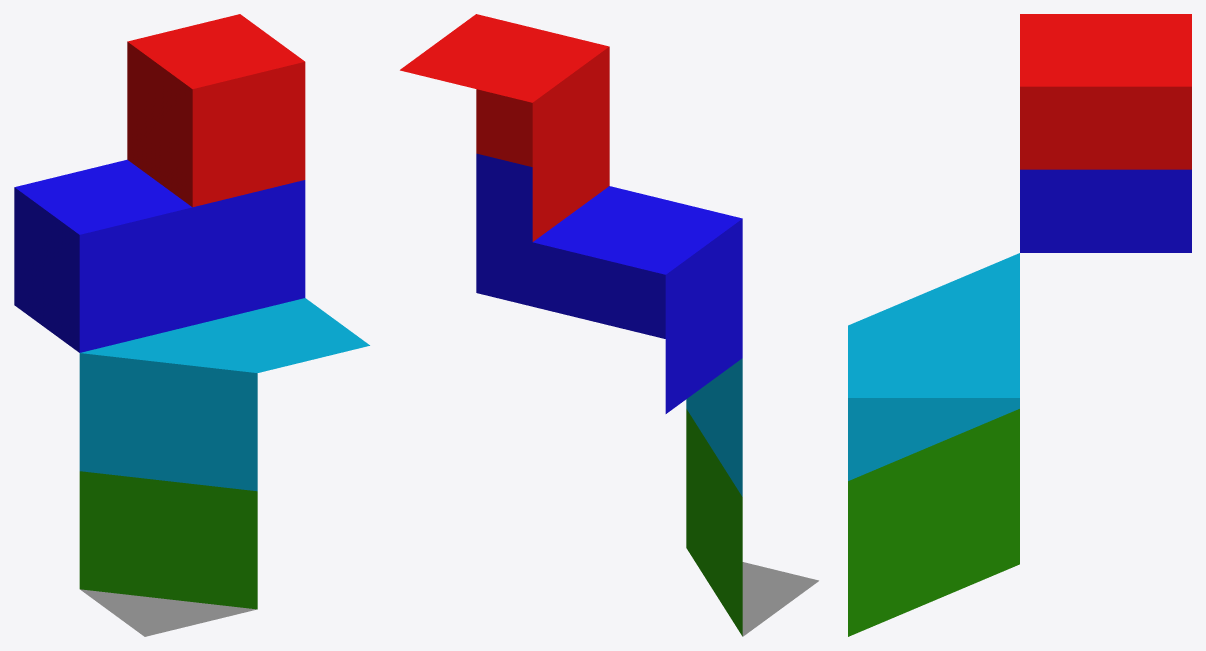
3 views of the same model, side by side, from view 1: azimuth 30°, elevation 25°; view 2: azimuth 150°, elevation 25°; view 3: azimuth 270°, elevation 25° (orthographic). The views are drawn at different scales.
Visible parts, largest first — view 1: T_13bb_0_0; view 2: T_13bb_0_0; view 3: T_13bb_0_0.
Part boxes in pixels (x1,y1,x2,y2): T_13bb_0_0: (14,14,369,636); T_13bb_0_0: (400,14,818,636); T_13bb_0_0: (848,14,1191,636).
Bounding box in the file's own units: 99.79 × 200 × 99.81.
